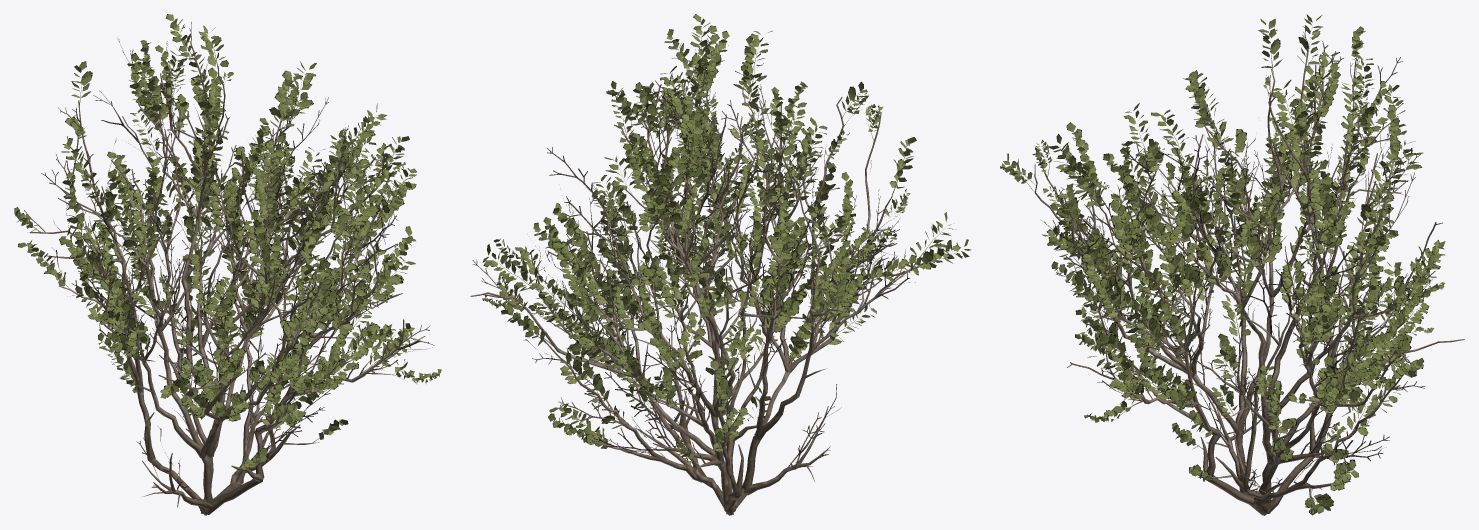
File: shrub_bush.glb
3 renders of one model, left to right at view 1: azimuth 30°, elevation 25°; view 2: azimuth 150°, elevation 25°; view 3: azimuth 270°, elevation 25°, orthographic. The views are drawn at different scales.
Bounding box in the file's own units: 1.8 × 2.33 × 1.96.
2 materials, 2 textured.
